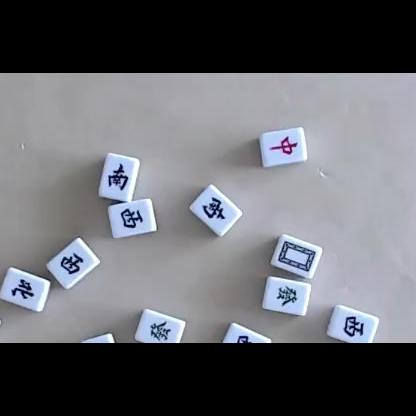2z: (107, 163, 129, 190), (203, 197, 227, 221)
3z: (60, 252, 84, 275), (120, 207, 143, 228), (344, 315, 364, 337), (234, 334, 255, 343)
4z: (11, 279, 35, 300)
5z: (279, 241, 317, 271)
6z: (276, 283, 298, 307), (150, 320, 172, 342)
7z: (270, 135, 299, 155)
